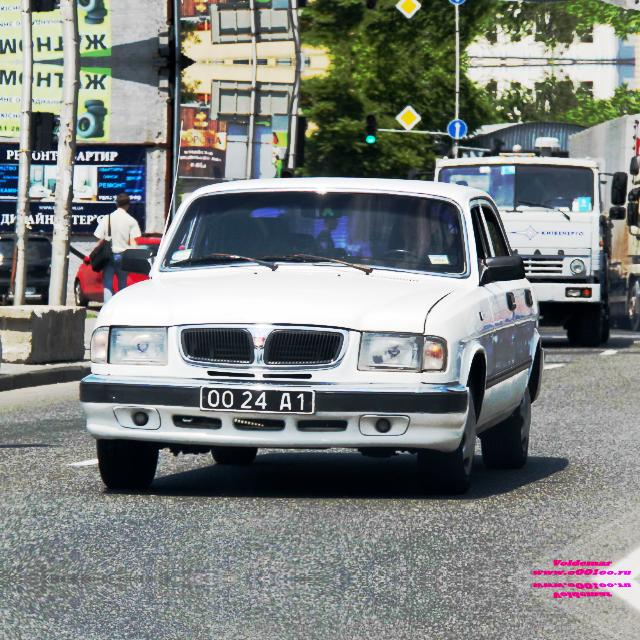military: (200, 384, 316, 416)
